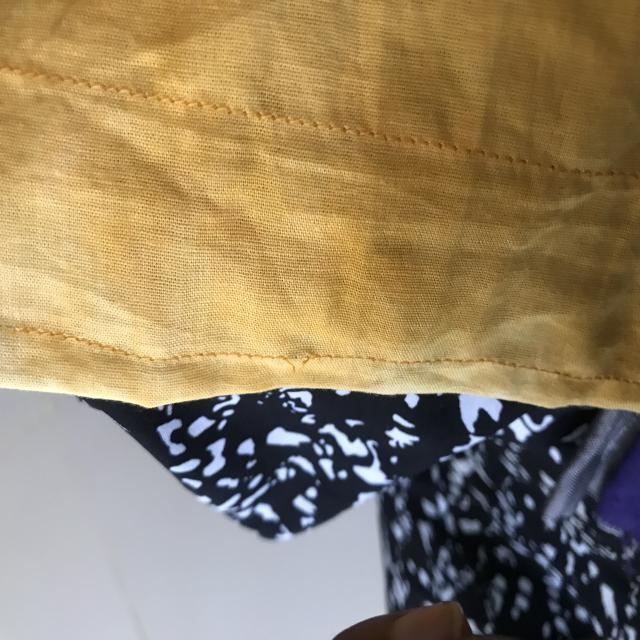broken: (275, 340, 319, 378)
